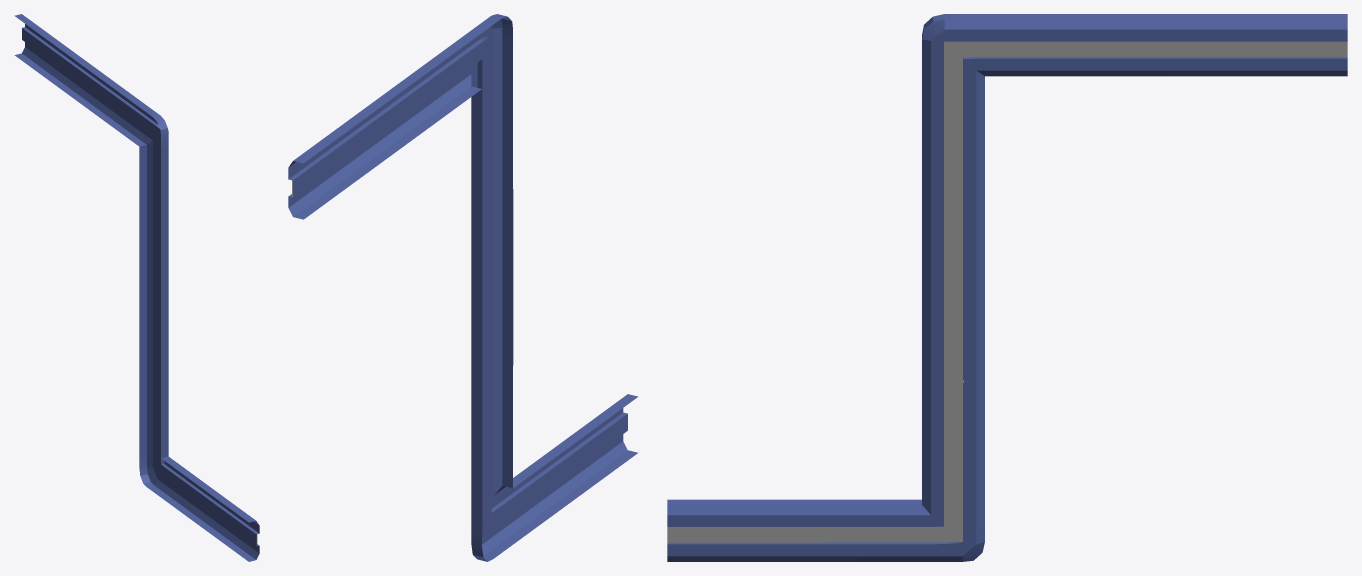
File: ligne_technologique_A1 (1).fbx
3 renders of one model, left to right at view 1: azimuth 30°, elevation 25°; view 2: azimuth 150°, elevation 25°; view 3: azimuth 270°, elevation 25°, orthographic. The views are drawn at different scales.
Parts seen in each view (by area): view 1: ligne_techno_A1; view 2: ligne_techno_A1; view 3: ligne_techno_A1.
Part boxes in pixels (bbox=[...]): ligne_techno_A1: bbox=[14, 14, 259, 561]; ligne_techno_A1: bbox=[288, 14, 637, 561]; ligne_techno_A1: bbox=[667, 14, 1347, 561].
Bounding box in the file's own units: 9.34 × 313 × 355.
